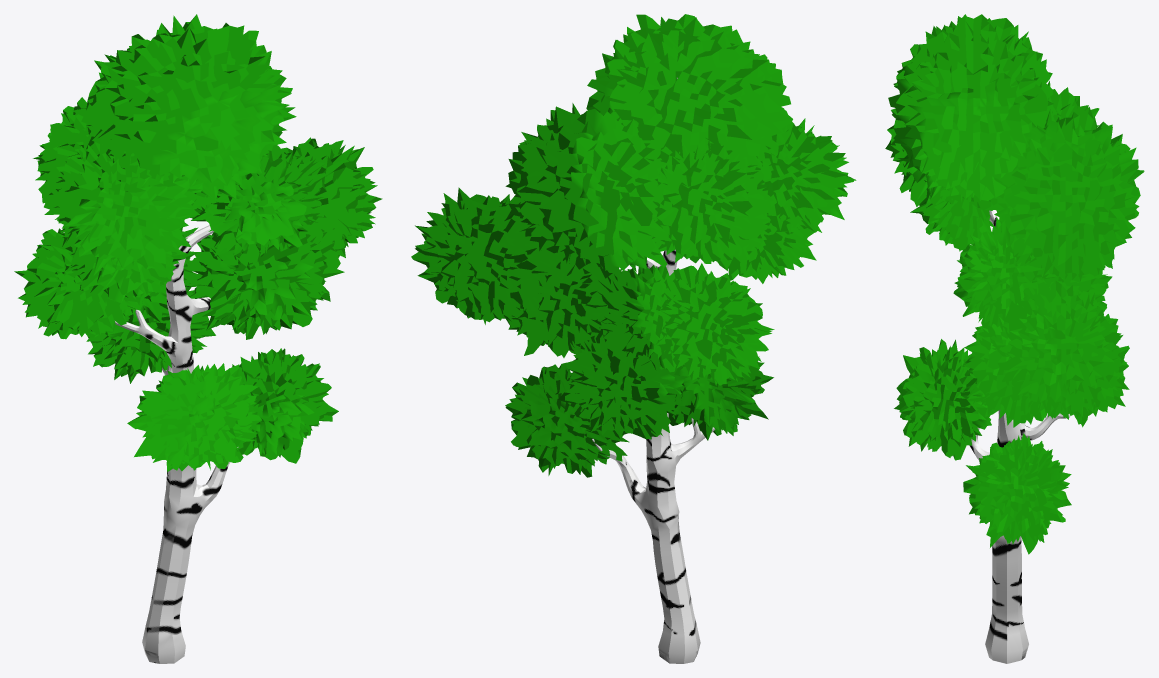
Rendered from brzoza.fbx.
3 views of the same model, side by side, from view 1: azimuth 30°, elevation 25°; view 2: azimuth 150°, elevation 25°; view 3: azimuth 270°, elevation 25° (orthographic). The views are drawn at different scales.
Parts seen in each view (by area): view 1: Cube.008, Plane.002; view 2: Cube.008, Plane.002; view 3: Cube.008, Plane.002.
Boxes of the visible parts, x1,y1,x2,y2 form: Cube.008: (14,14,382,471); Plane.002: (115,225,238,663); Cube.008: (411,14,856,477); Plane.002: (592,77,715,663); Cube.008: (885,14,1144,554); Plane.002: (969,210,1070,663).
Bounding box in the file's own units: 2530 × 4134 × 1511.
Materials: 2 (1 with a texture image).
